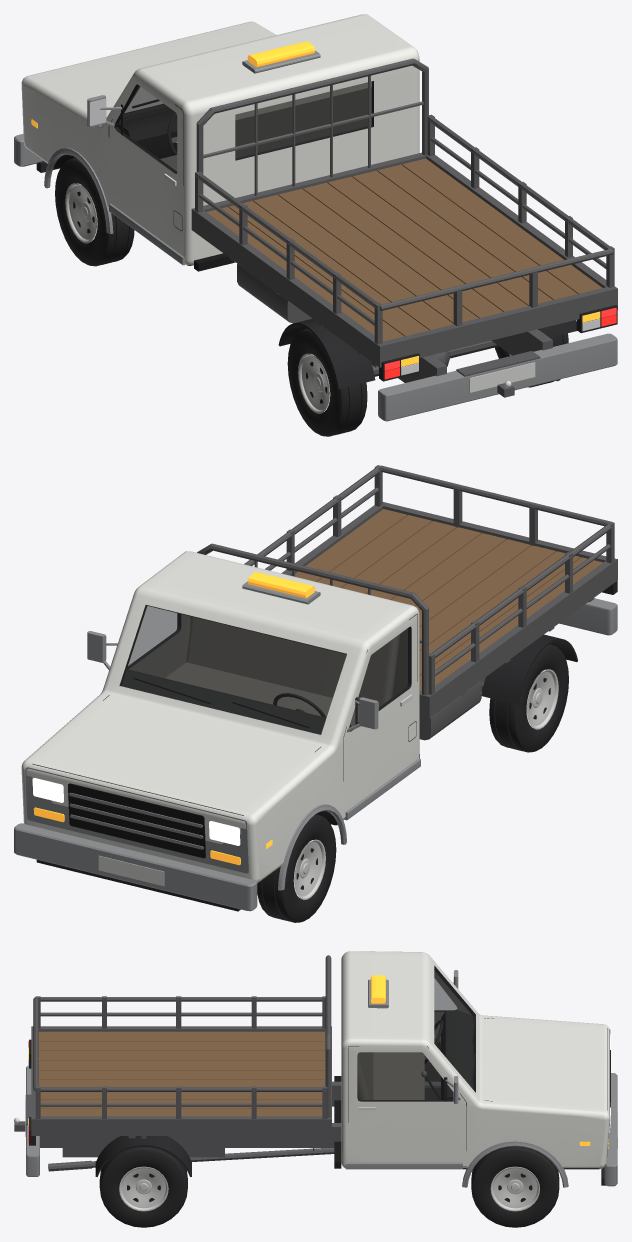
The model's file is pickup_work.glb.
3 views of the same model, one above another, from view 1: azimuth 30°, elevation 25°; view 2: azimuth 150°, elevation 25°; view 3: azimuth 270°, elevation 25° (orthographic). The views are drawn at different scales.
Visible parts, largest first — view 1: Body, Glass, Interior, Wheel_RL, Wheel_FL; view 2: Body, Glass, Interior, Wheel_RL, Wheel_FL, Lights_Head; view 3: Body, Glass, Wheel_FR, Wheel_RR, Interior.
Part boxes in pixels (x1=…): Body: x1=14, y1=14, x2=617, y2=421; Glass: x1=115, y1=81, x2=373, y2=173; Interior: x1=118, y1=81, x2=371, y2=171; Wheel_RL: x1=287, y1=328, x2=367, y2=436; Wheel_FL: x1=55, y1=157, x2=134, y2=266; Body: x1=14, y1=465, x2=617, y2=911; Glass: x1=120, y1=605, x2=410, y2=734; Interior: x1=121, y1=616, x2=400, y2=734; Wheel_RL: x1=489, y1=644, x2=568, y2=752; Wheel_FL: x1=257, y1=814, x2=336, y2=922; Lights_Head: x1=32, y1=778, x2=240, y2=845; Body: x1=14, y1=951, x2=617, y2=1187; Glass: x1=357, y1=967, x2=475, y2=1100; Wheel_FR: x1=471, y1=1146, x2=559, y2=1227; Wheel_RR: x1=99, y1=1146, x2=187, y2=1227; Interior: x1=357, y1=1010, x2=473, y2=1099.
Bounding box in the file's own units: 2.3 × 1.88 × 5.2.
